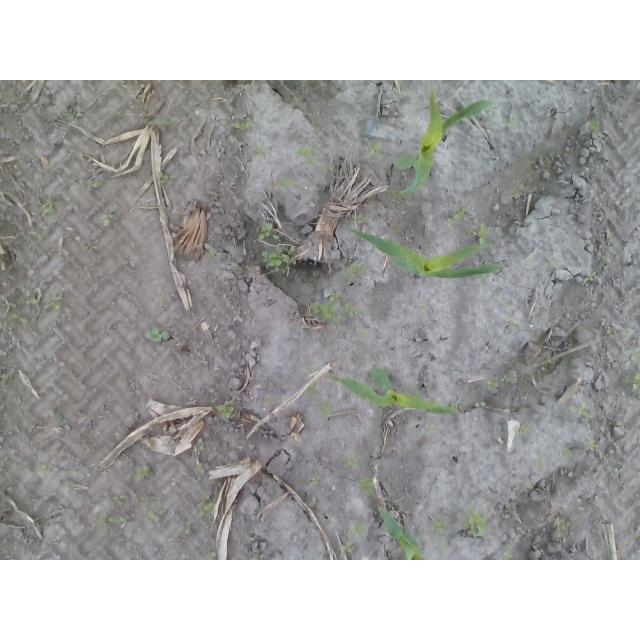Maize: (391, 80, 498, 196), (345, 226, 504, 281), (327, 362, 457, 414), (377, 505, 424, 560)
Weeds: (260, 222, 297, 275), (308, 290, 361, 322), (289, 142, 335, 176), (462, 507, 487, 538), (99, 513, 134, 530), (344, 449, 369, 472), (432, 519, 448, 552), (192, 501, 216, 520), (344, 263, 368, 282), (214, 399, 237, 418), (447, 207, 470, 226), (581, 118, 608, 134), (37, 196, 57, 217), (366, 139, 385, 161), (145, 328, 171, 344), (568, 402, 592, 419), (96, 206, 116, 226), (622, 372, 640, 393), (360, 474, 374, 499), (135, 464, 153, 482), (496, 544, 515, 560), (147, 510, 162, 528), (555, 518, 569, 537), (503, 112, 519, 128), (278, 176, 293, 193), (23, 287, 37, 305), (560, 447, 573, 466), (352, 523, 368, 538), (262, 395, 278, 410), (305, 382, 319, 399), (233, 121, 250, 135), (30, 227, 47, 241), (159, 172, 177, 185), (62, 111, 83, 122), (256, 143, 273, 156), (479, 223, 489, 245), (178, 521, 193, 535), (86, 177, 103, 189), (160, 116, 176, 128), (320, 398, 332, 414), (36, 464, 49, 478), (112, 494, 127, 506), (624, 351, 640, 362), (303, 368, 322, 377), (530, 456, 545, 467), (505, 319, 520, 330), (588, 438, 601, 450), (537, 367, 545, 385), (85, 241, 98, 252), (351, 212, 366, 221), (584, 272, 596, 283), (310, 475, 320, 488), (341, 543, 352, 554), (250, 552, 265, 560), (473, 400, 488, 408), (48, 303, 65, 310), (487, 380, 498, 390), (518, 423, 529, 433), (551, 256, 561, 266), (427, 423, 438, 432), (607, 329, 617, 338), (196, 440, 206, 449), (207, 552, 217, 561), (512, 187, 521, 197), (447, 400, 457, 409), (0, 370, 8, 381), (420, 303, 427, 315), (600, 256, 609, 265), (500, 375, 510, 383), (196, 461, 204, 471), (7, 313, 17, 320), (296, 325, 305, 332), (209, 252, 219, 257)
